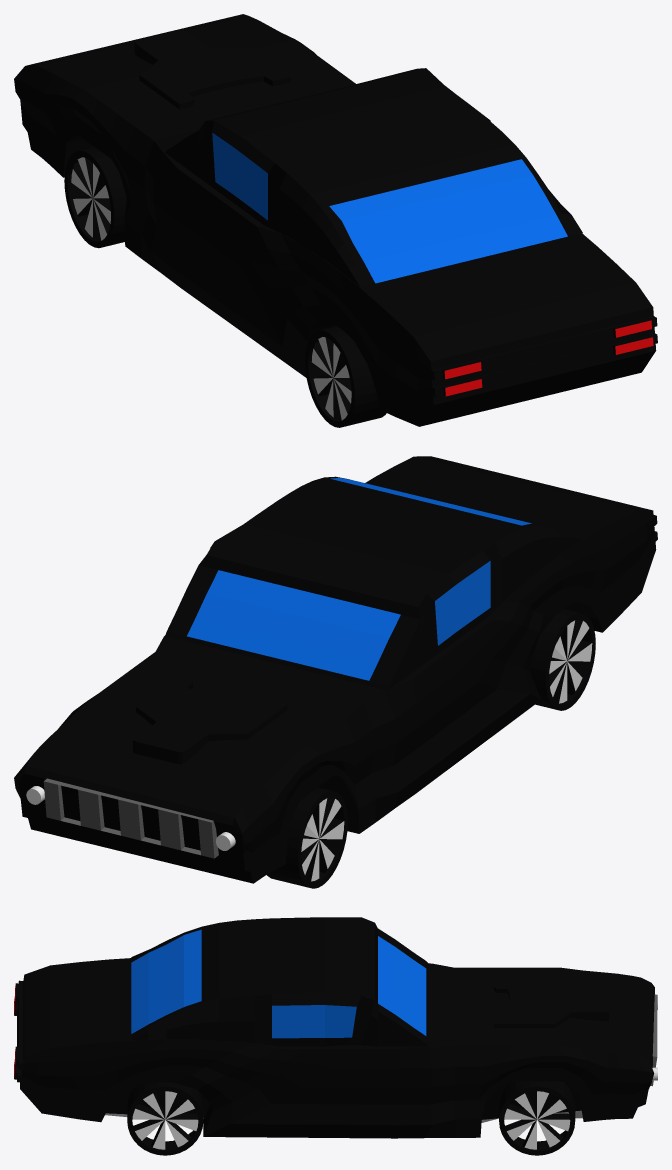
The model's file is carblend.fbx.
3 renders of one model, top to bottom at view 1: azimuth 30°, elevation 25°; view 2: azimuth 150°, elevation 25°; view 3: azimuth 270°, elevation 25°, orthographic. The views are drawn at different scales.
Parts seen in each view (by area): view 1: araba, tekerlekk.001, tekerlekk.002; view 2: araba, tekerlekk.002, tekerlekk.001; view 3: araba, tekerlekk.003, tekerlekk.
Boxes of the visible parts, bbox=[...] form: araba: bbox=[14, 14, 657, 426]; tekerlekk.001: bbox=[305, 326, 386, 427]; tekerlekk.002: bbox=[64, 147, 126, 248]; araba: bbox=[14, 456, 657, 883]; tekerlekk.002: bbox=[267, 787, 347, 888]; tekerlekk.001: bbox=[529, 609, 595, 710]; araba: bbox=[14, 917, 657, 1138]; tekerlekk.003: bbox=[499, 1081, 575, 1155]; tekerlekk: bbox=[127, 1082, 203, 1155].
Size of the model in its own units: 82.18 by 65.29 by 242.
